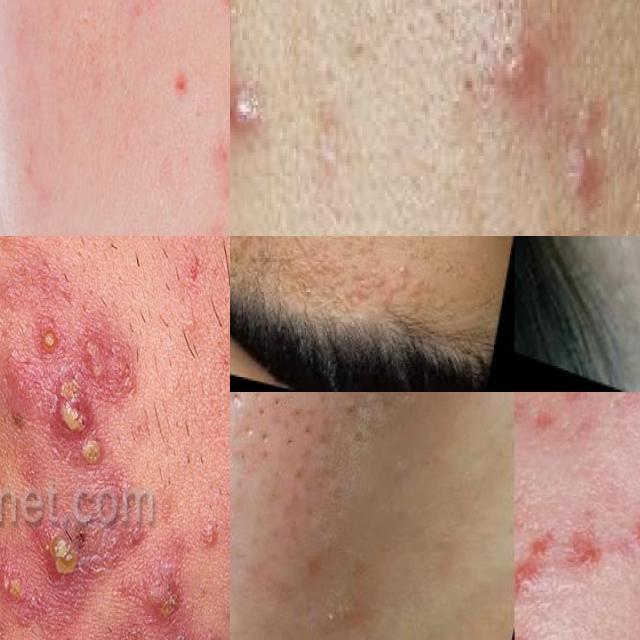acne_scars: (625, 459, 640, 563)
comedone: (277, 428, 310, 458), (246, 394, 276, 425)
flat_wart: (337, 249, 422, 330), (274, 236, 349, 274)
papule: (514, 614, 539, 640), (624, 392, 640, 409)
pustule: (230, 36, 271, 169), (483, 37, 559, 108), (515, 392, 550, 457)
